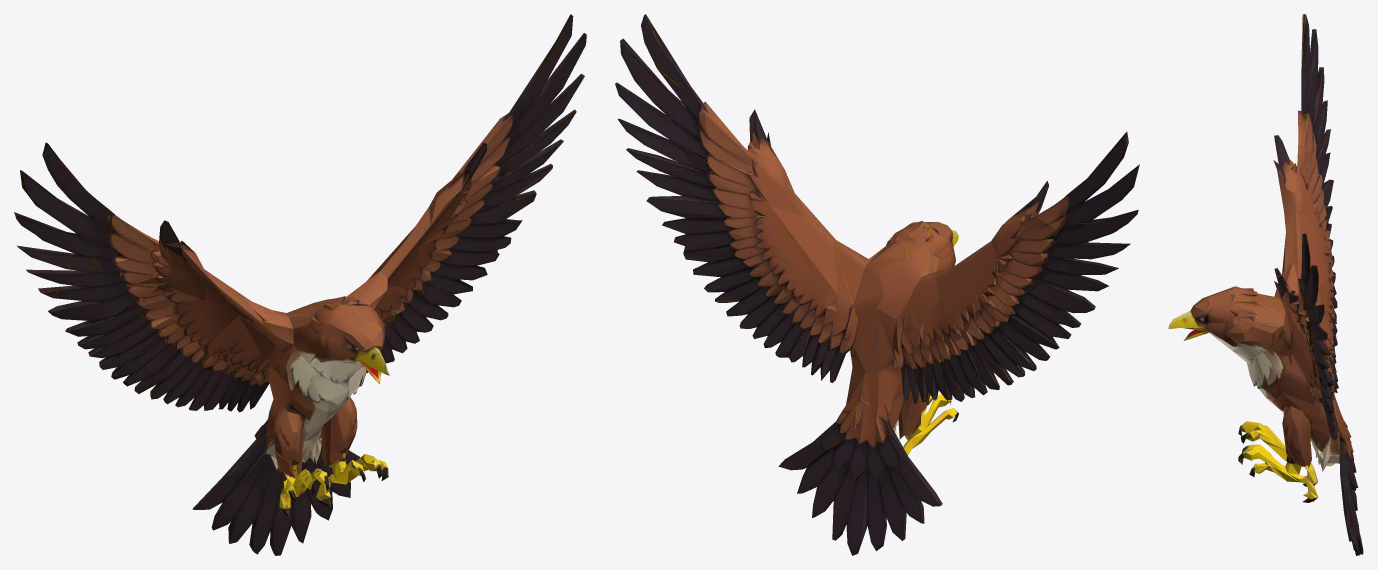
Rendered from gale_hawk.glb.
The picture shows the model from 3 angles, left to right: view 1: azimuth 30°, elevation 25°; view 2: azimuth 150°, elevation 25°; view 3: azimuth 270°, elevation 25°; orthographic projection. The views are drawn at different scales.
Bounding box in the file's own units: 1.89 × 1.6 × 0.6562.
1 material, 1 textured.
